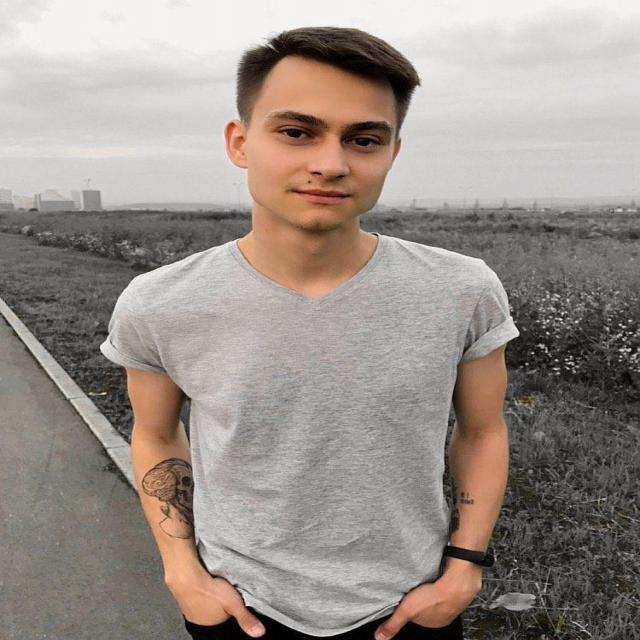earlobe: (224, 119, 250, 169)
